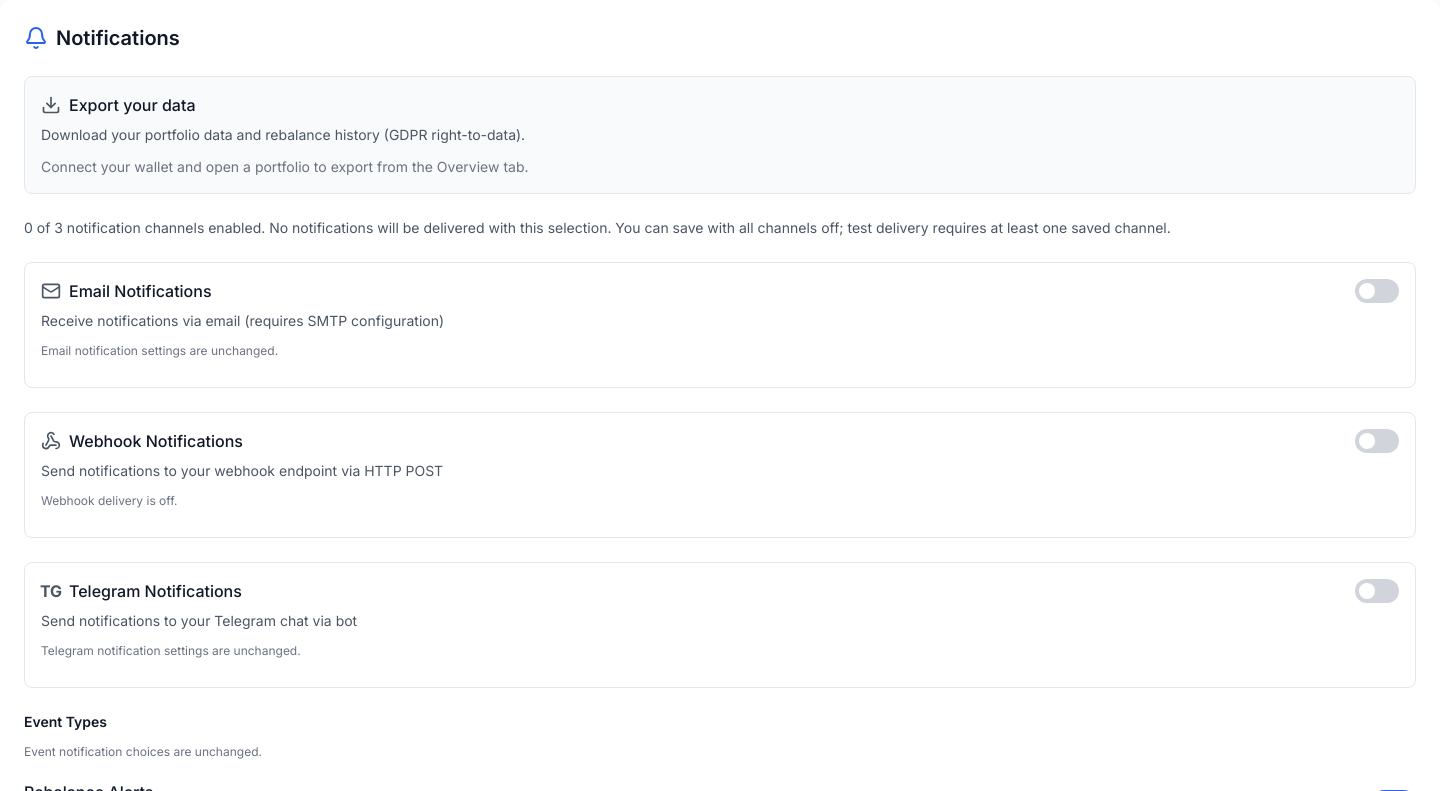
NotificationPreferences › validates email format and blocks save
Expected: the heading "Notifications" is shown, top-left (56, 24), bottom-right (180, 52)
Step 1. Click the switch named "email notifications" → (1377, 291), box top-left (1355, 279), bottom-right (1399, 303)
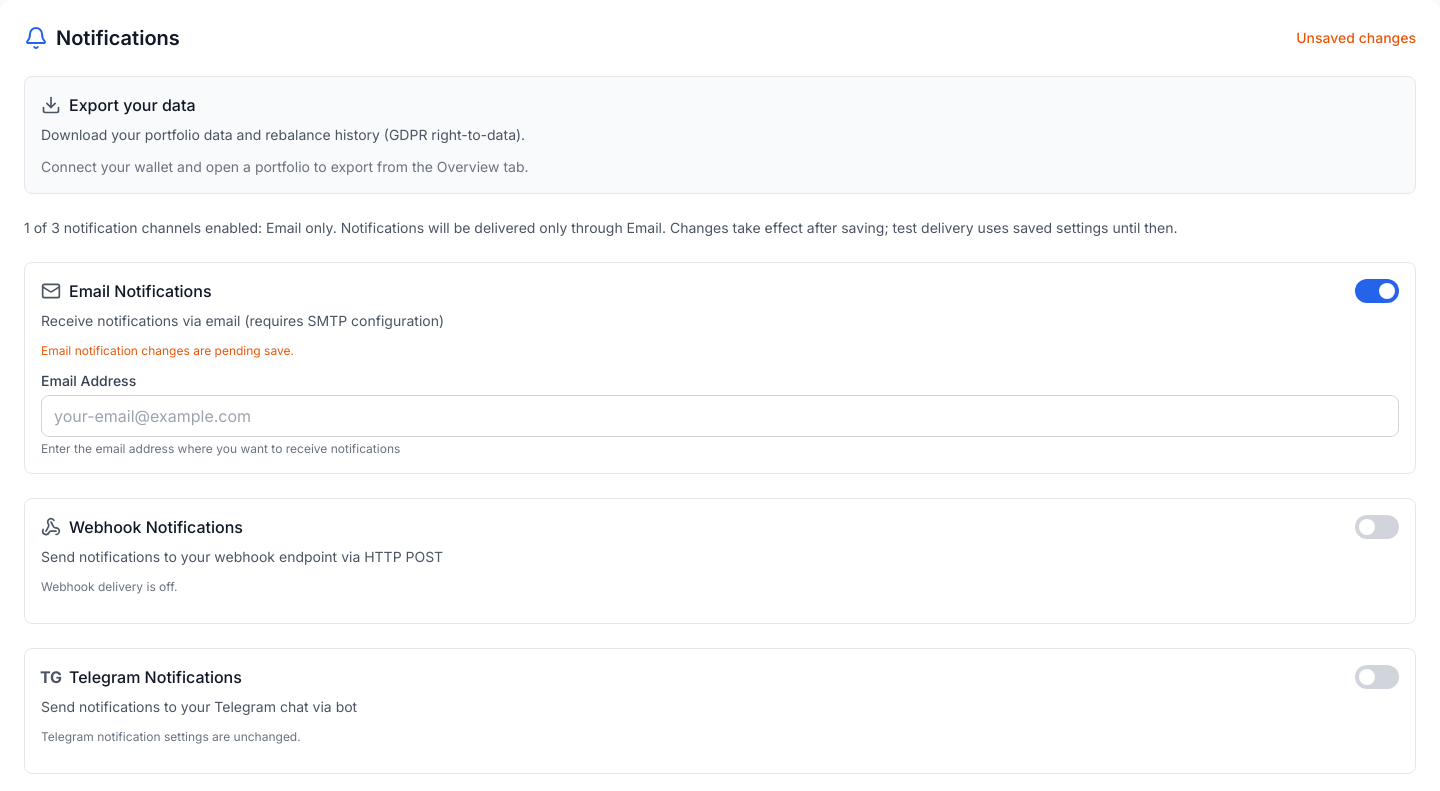
Step 2. Type "bad-email" into the field with placeholder "your-email@example.com" → (720, 416), box top-left (41, 395), bottom-right (1399, 437)
(page scrolled)
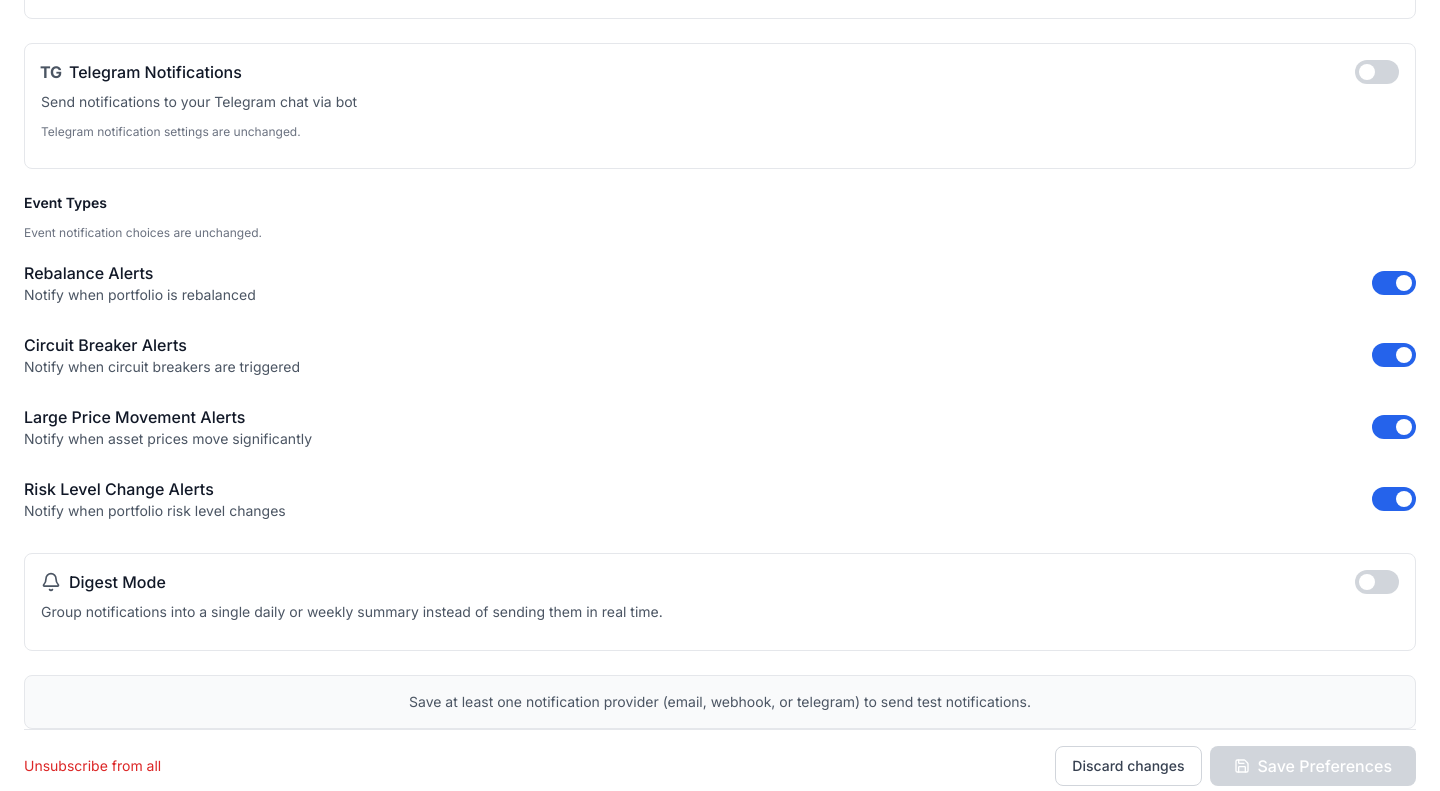
Now the button "Save Preferences" is disabled, box top-left (1210, 746), bottom-right (1416, 786)
